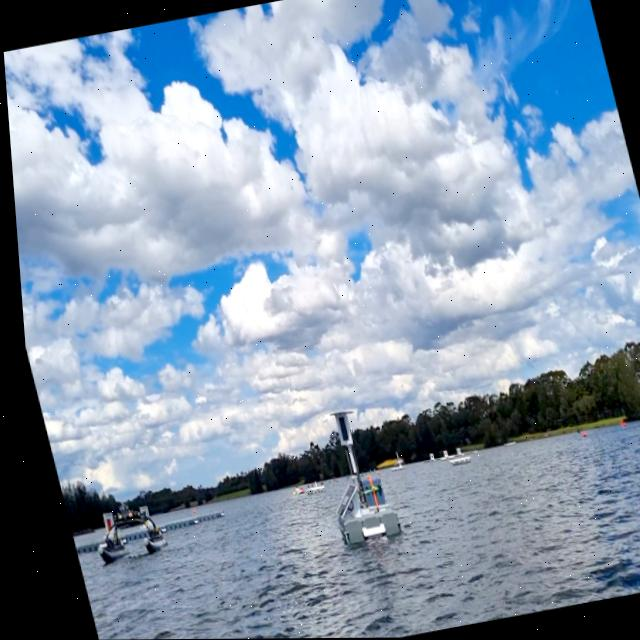led: (329, 414, 344, 443)
